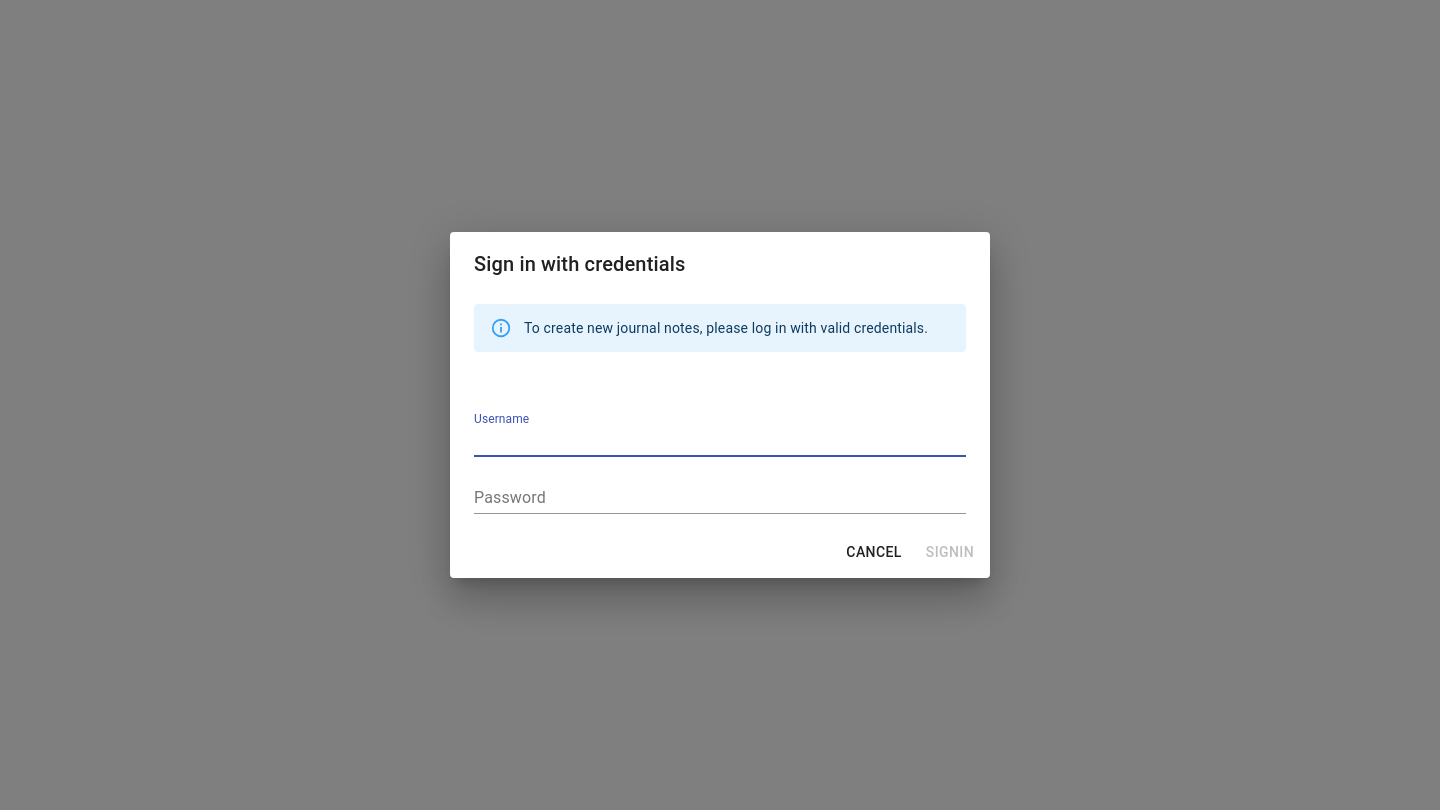
# RequestTokenDialog tests › ## 03 - enter username and password, signin enabled
Type "cam" into the field labelled "Username" at [720, 442], box [474,428,966,457]
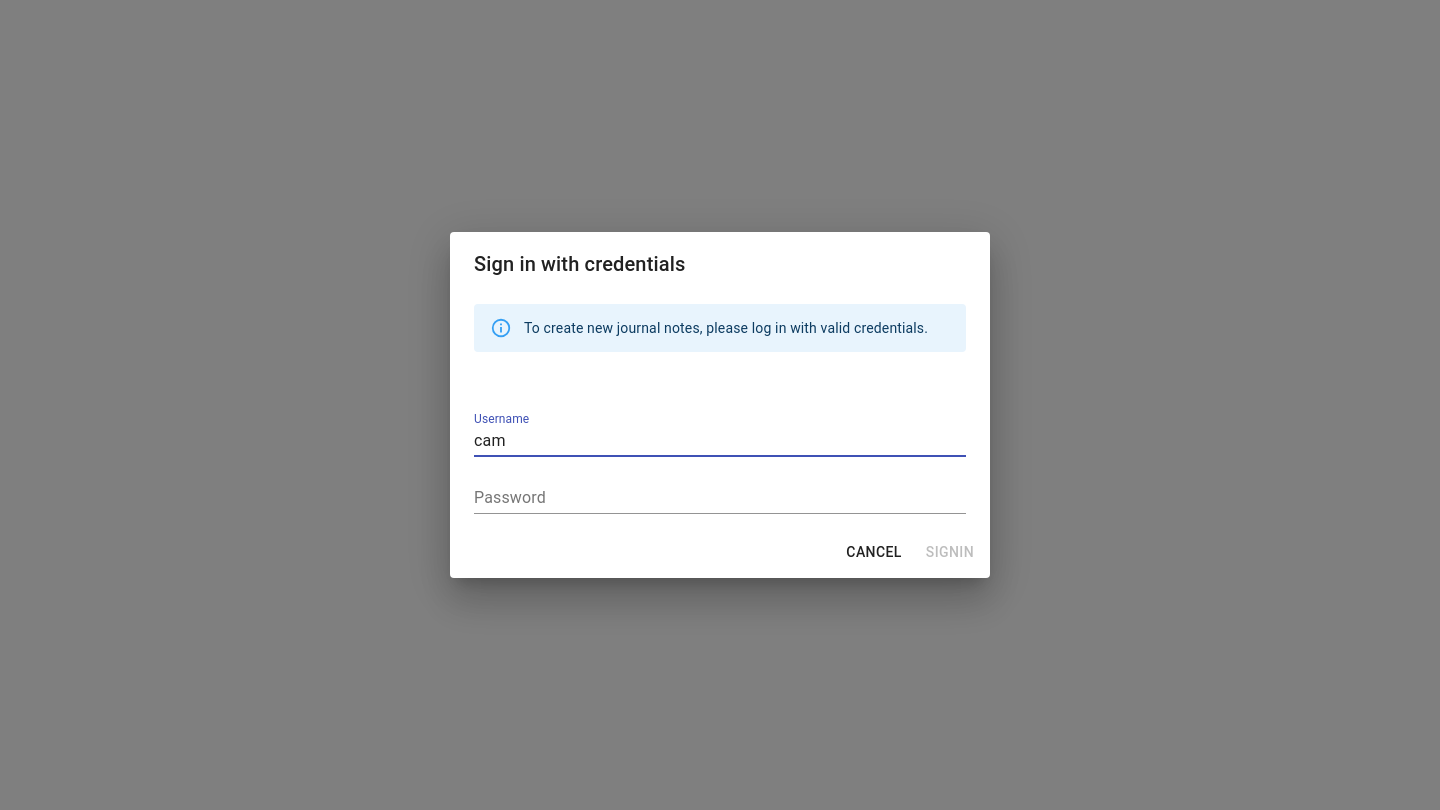
Type "pass" into the password field labelled "Password" at [720, 499], box [474,485,966,514]
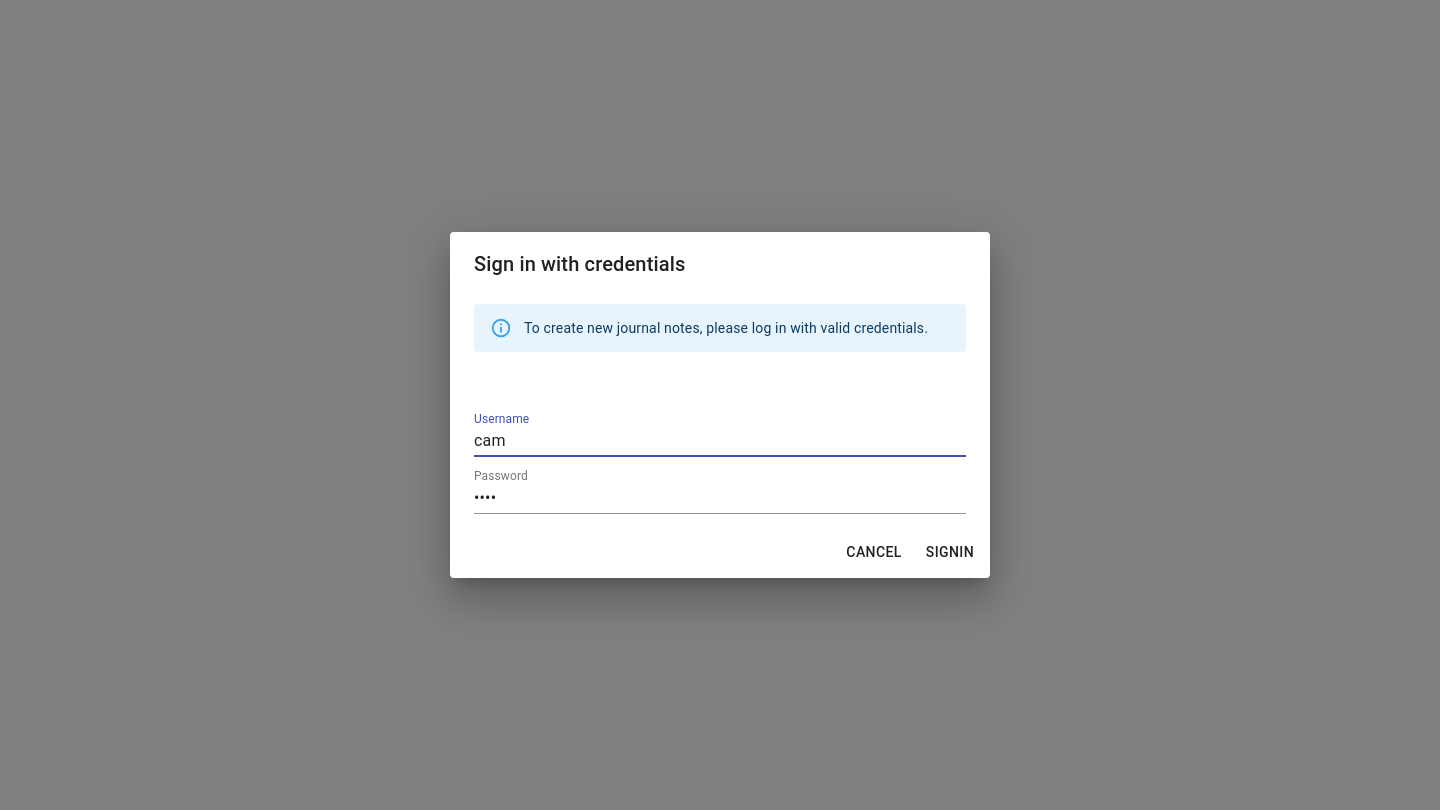
Now the button titled "sign in" is enabled, box [918,534,982,570]
